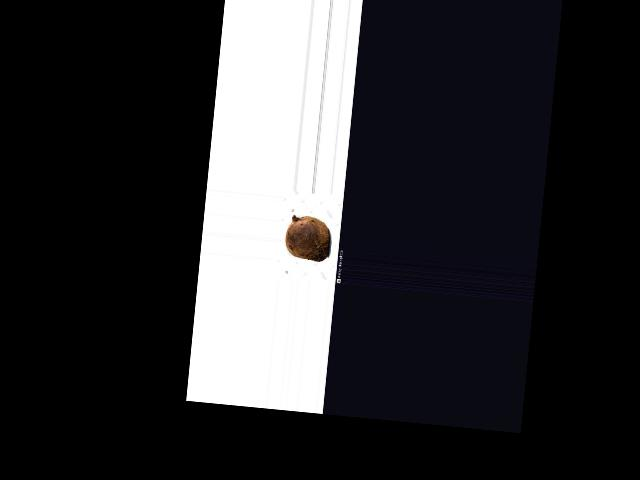beet: (284, 214, 332, 262)
